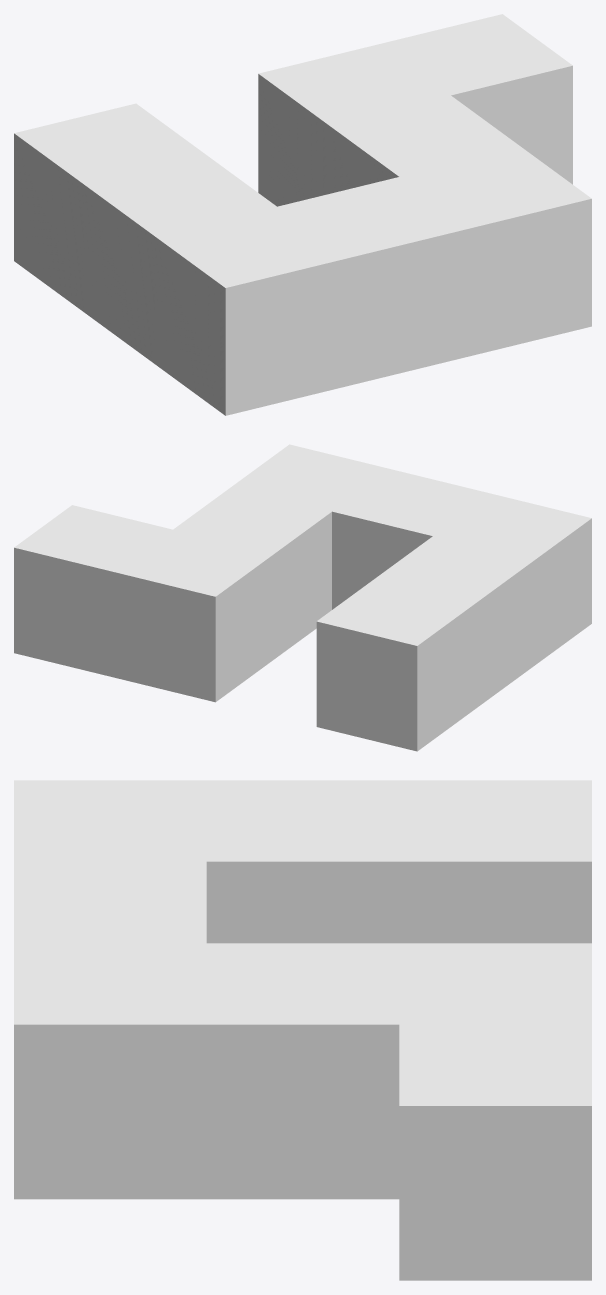
File: corridor.fbx
3 views of the same model, one above another, from view 1: azimuth 30°, elevation 25°; view 2: azimuth 150°, elevation 25°; view 3: azimuth 270°, elevation 25° (orthographic). The views are drawn at different scales.
Visible parts, largest first — view 1: Cube; view 2: Cube; view 3: Cube.
Part boxes in pixels (x1,y1,x2,y2): Cube: [14, 14, 591, 415]; Cube: [14, 444, 591, 751]; Cube: [14, 780, 591, 1280].
Size of the model in its own units: 40 by 10 by 30.
1 material, 1 textured.
